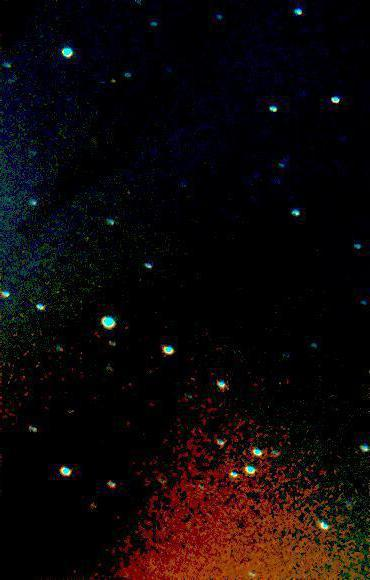star: (97, 66, 127, 96)
